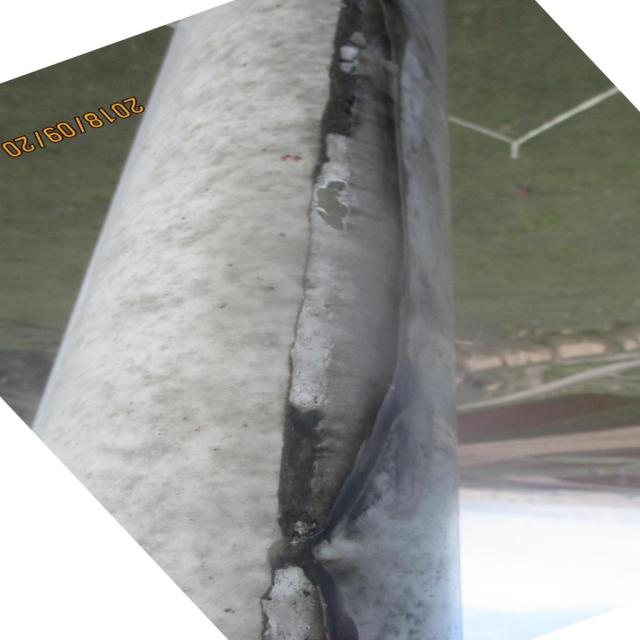crack: (296, 13, 414, 530), (280, 558, 344, 634)
